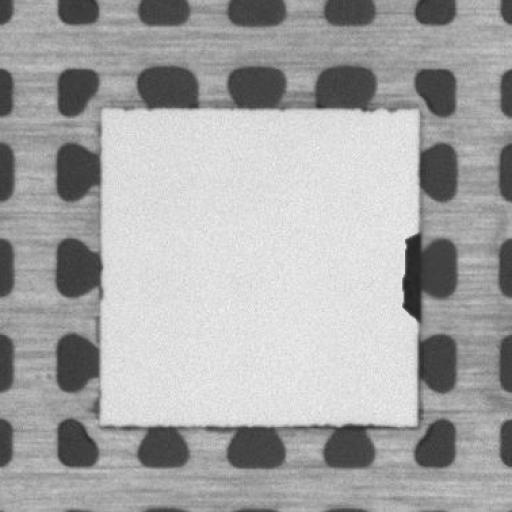DIE_BROKEN: (398, 224, 423, 322)
